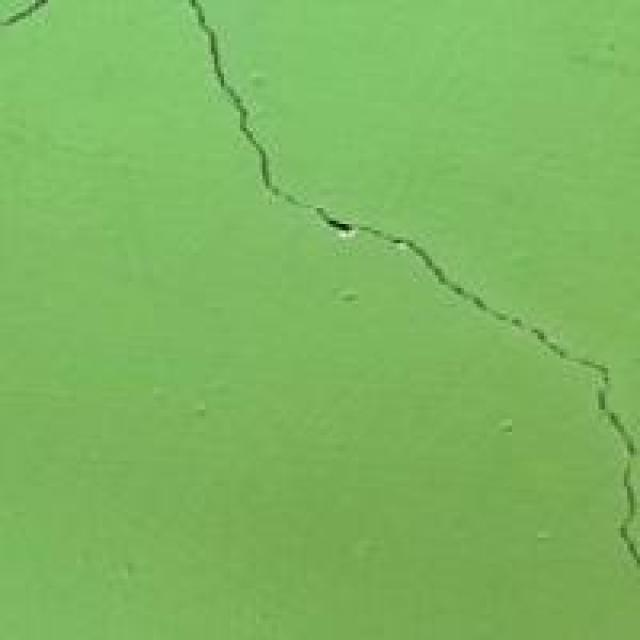crack: (179, 0, 637, 557)
